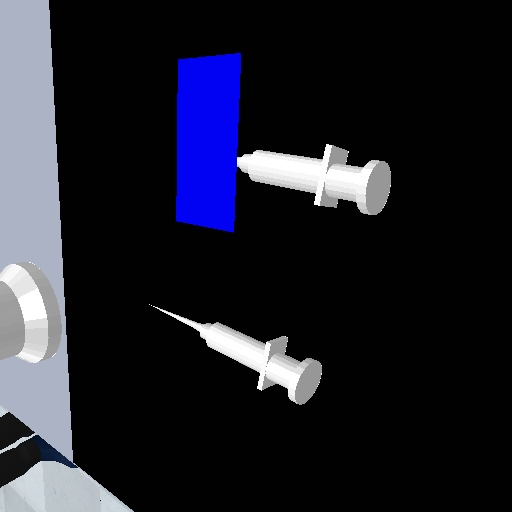jeringuilla: (142, 295, 329, 407), (240, 138, 395, 217)
